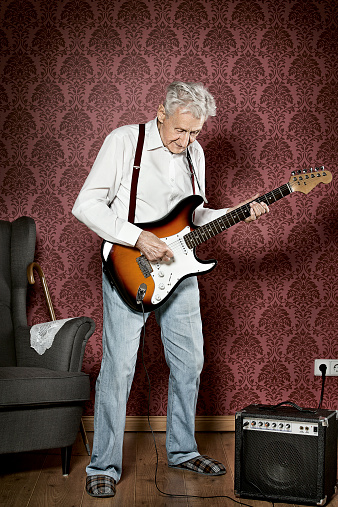em pe: (72, 59, 244, 503)
